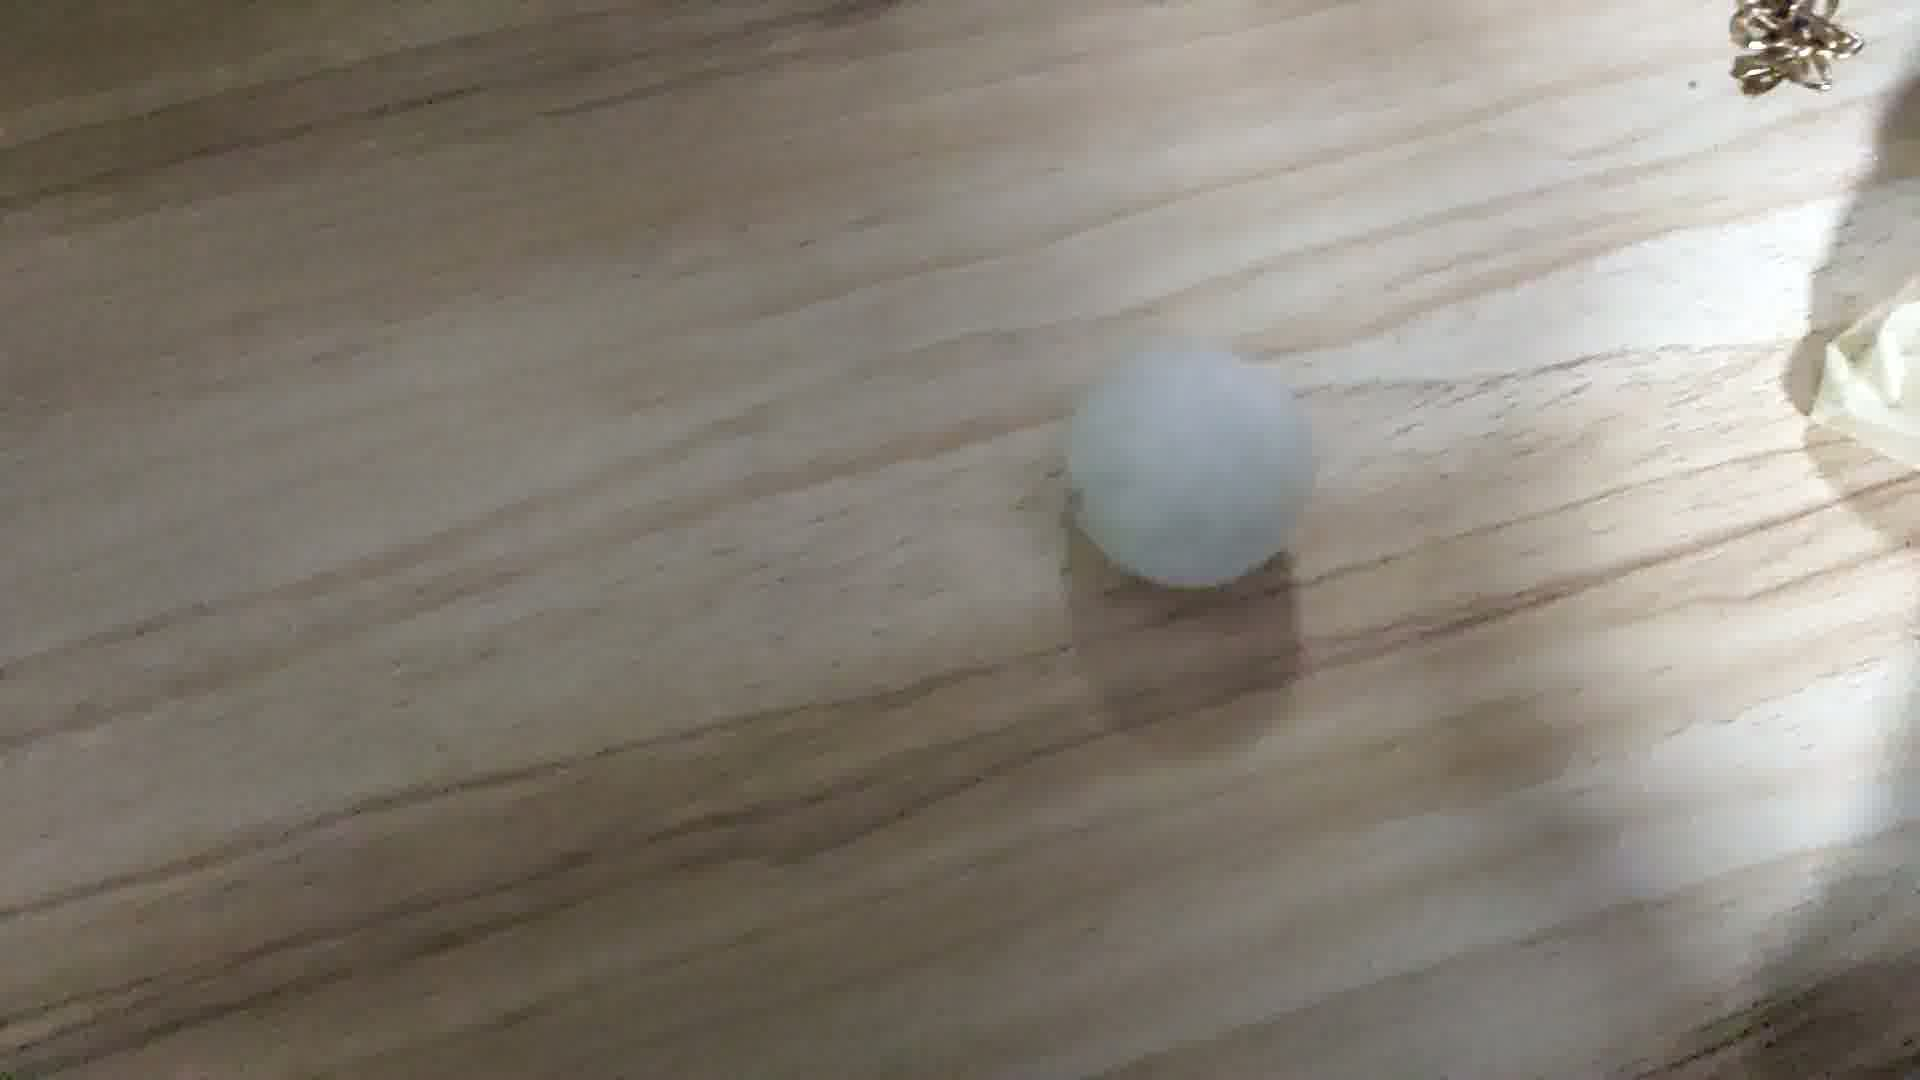Ball: (1056, 338, 1320, 592)
